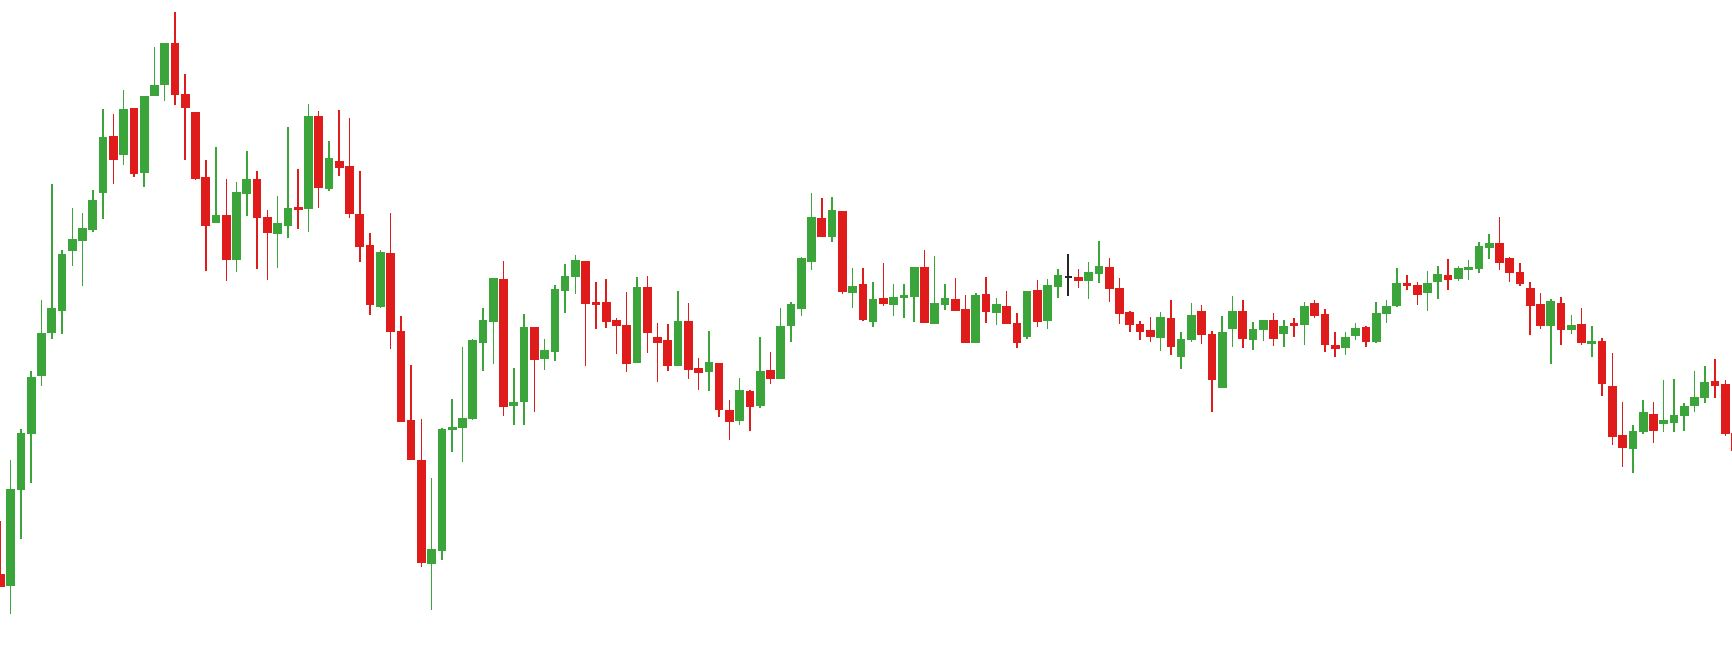sell: (241, 104, 325, 231)
